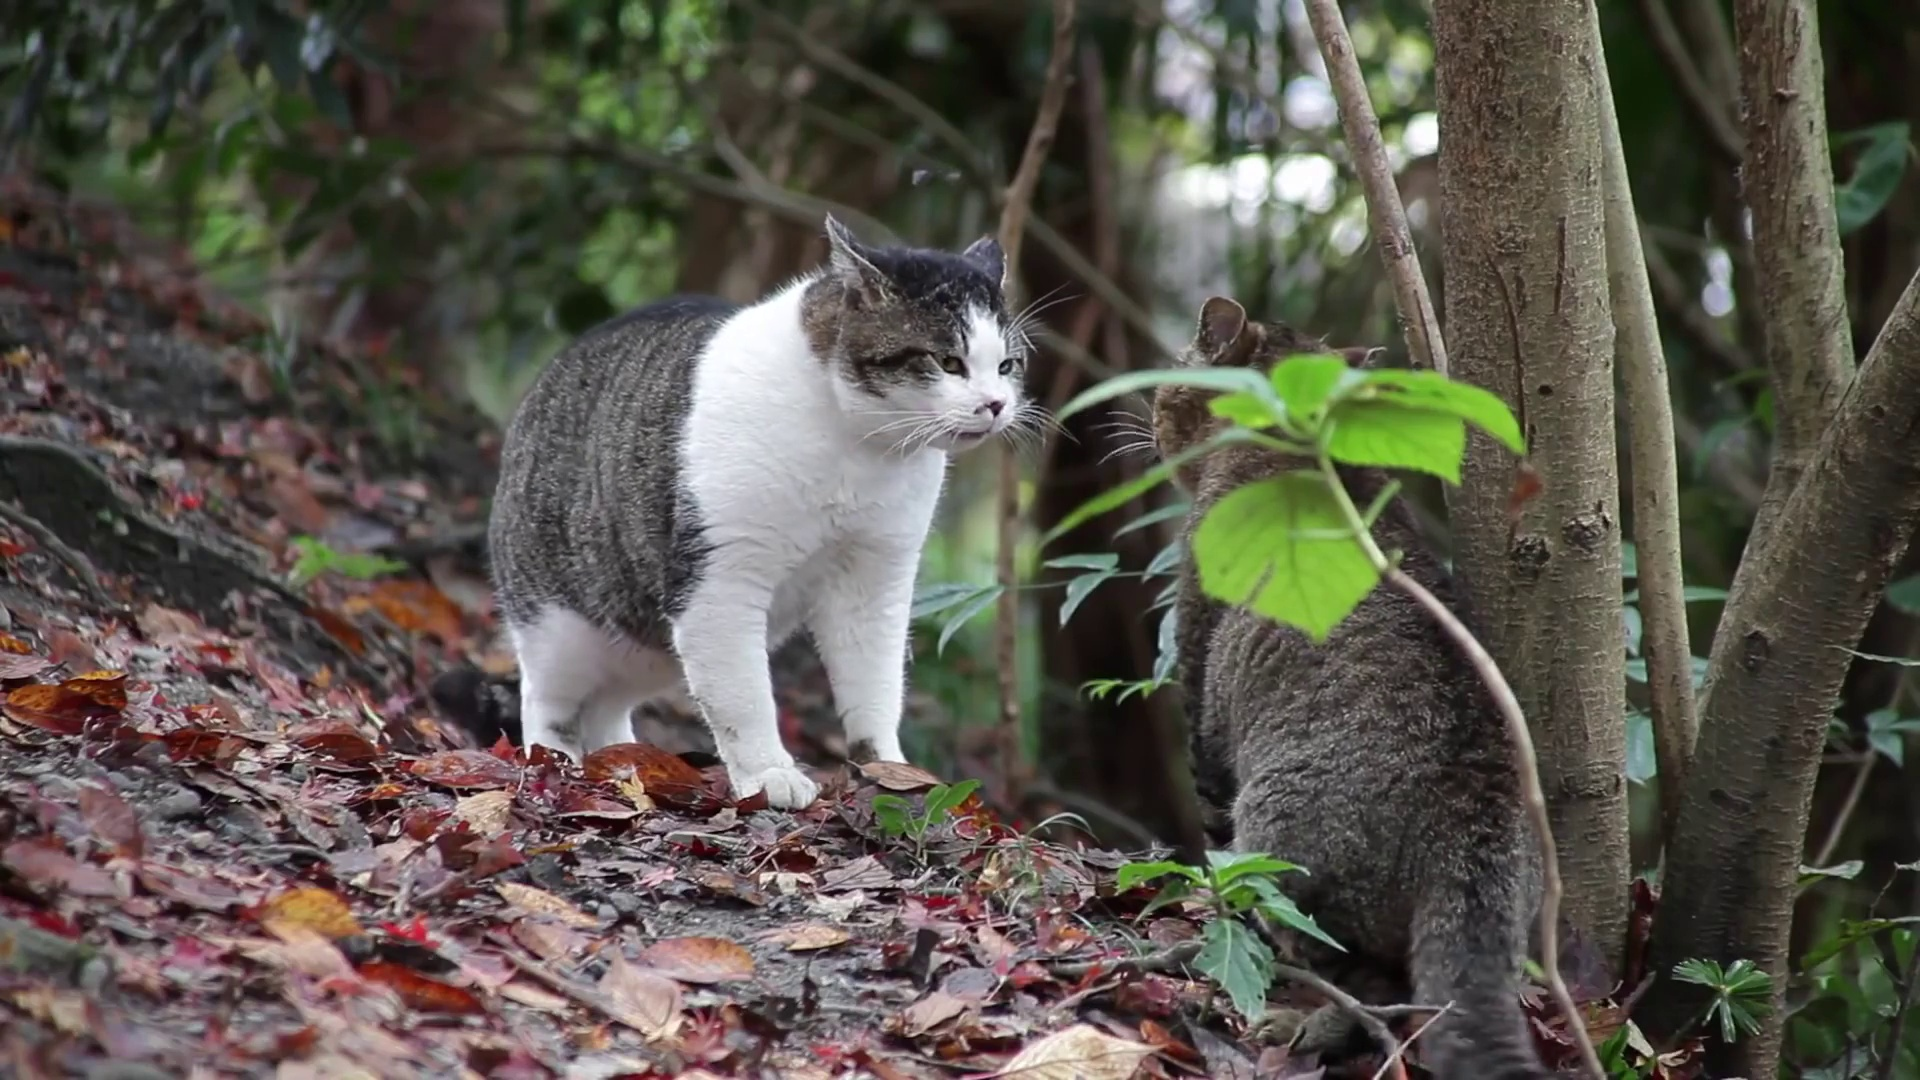black-white: (489, 214, 1021, 804)
pure black: (1150, 295, 1544, 1080)
